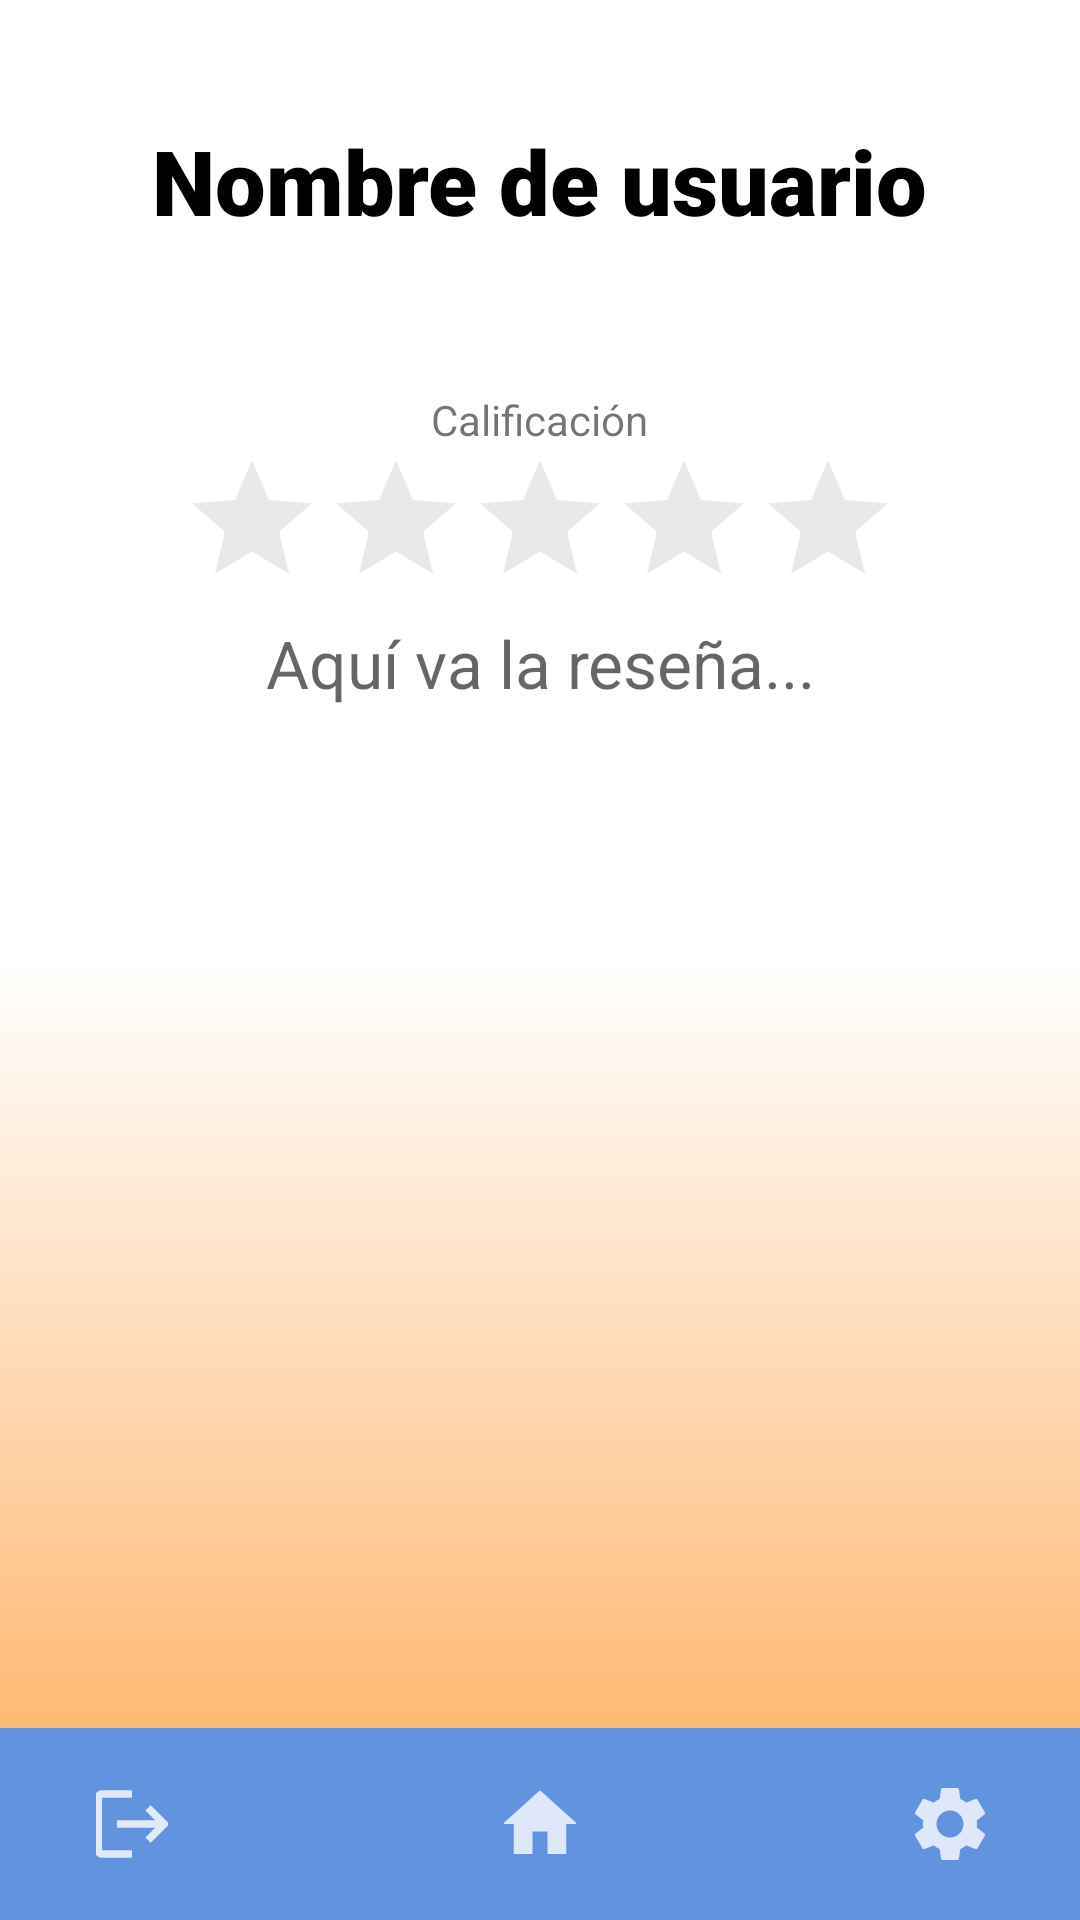

Screen size 1080x1920. Icon name, then its box in pixels as [x1, y1, x2, y2]:
home: [504, 1790, 576, 1854]
settings: [915, 1788, 985, 1860]
